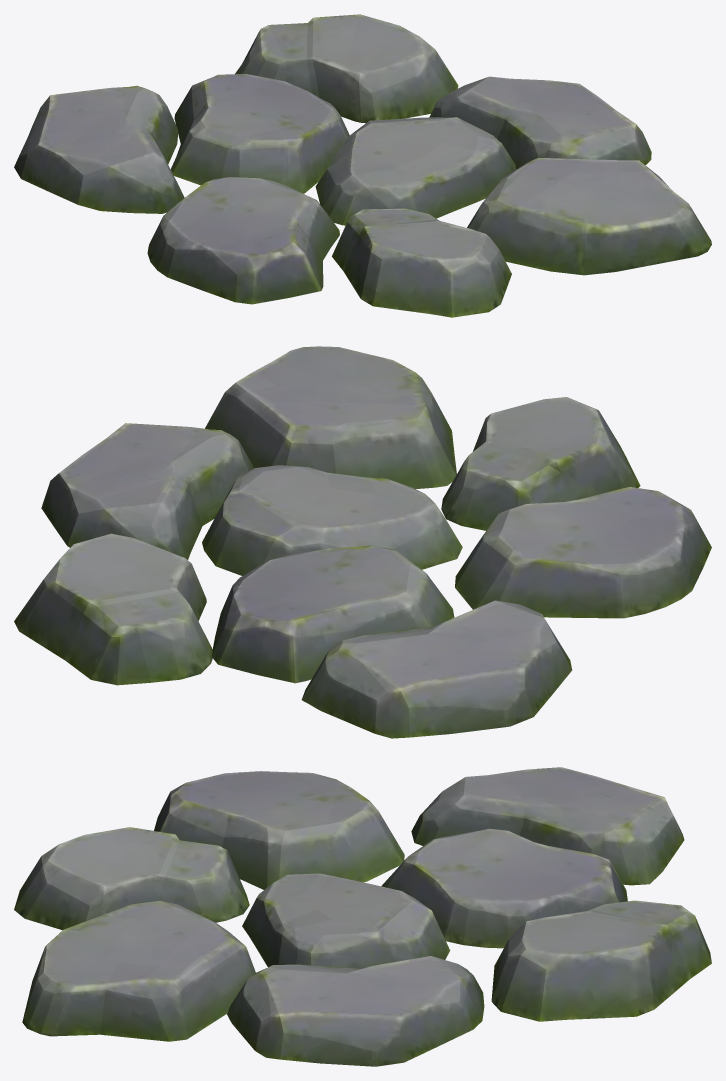
The model's file is path-round.glb.
3 views of the same model, one above another, from view 1: azimuth 30°, elevation 25°; view 2: azimuth 150°, elevation 25°; view 3: azimuth 270°, elevation 25° (orthographic). The views are drawn at different scales.
Visible parts, largest first — view 1: RockPath_Round_Small_3; view 2: RockPath_Round_Small_3; view 3: RockPath_Round_Small_3.
Part boxes in pixels (x1,y1,x2,y2): RockPath_Round_Small_3: (14, 14, 711, 317); RockPath_Round_Small_3: (14, 346, 711, 738); RockPath_Round_Small_3: (14, 767, 711, 1066).
Size of the model in its own units: 1.18 by 0.1093 by 1.29.
1 material, 1 textured.
